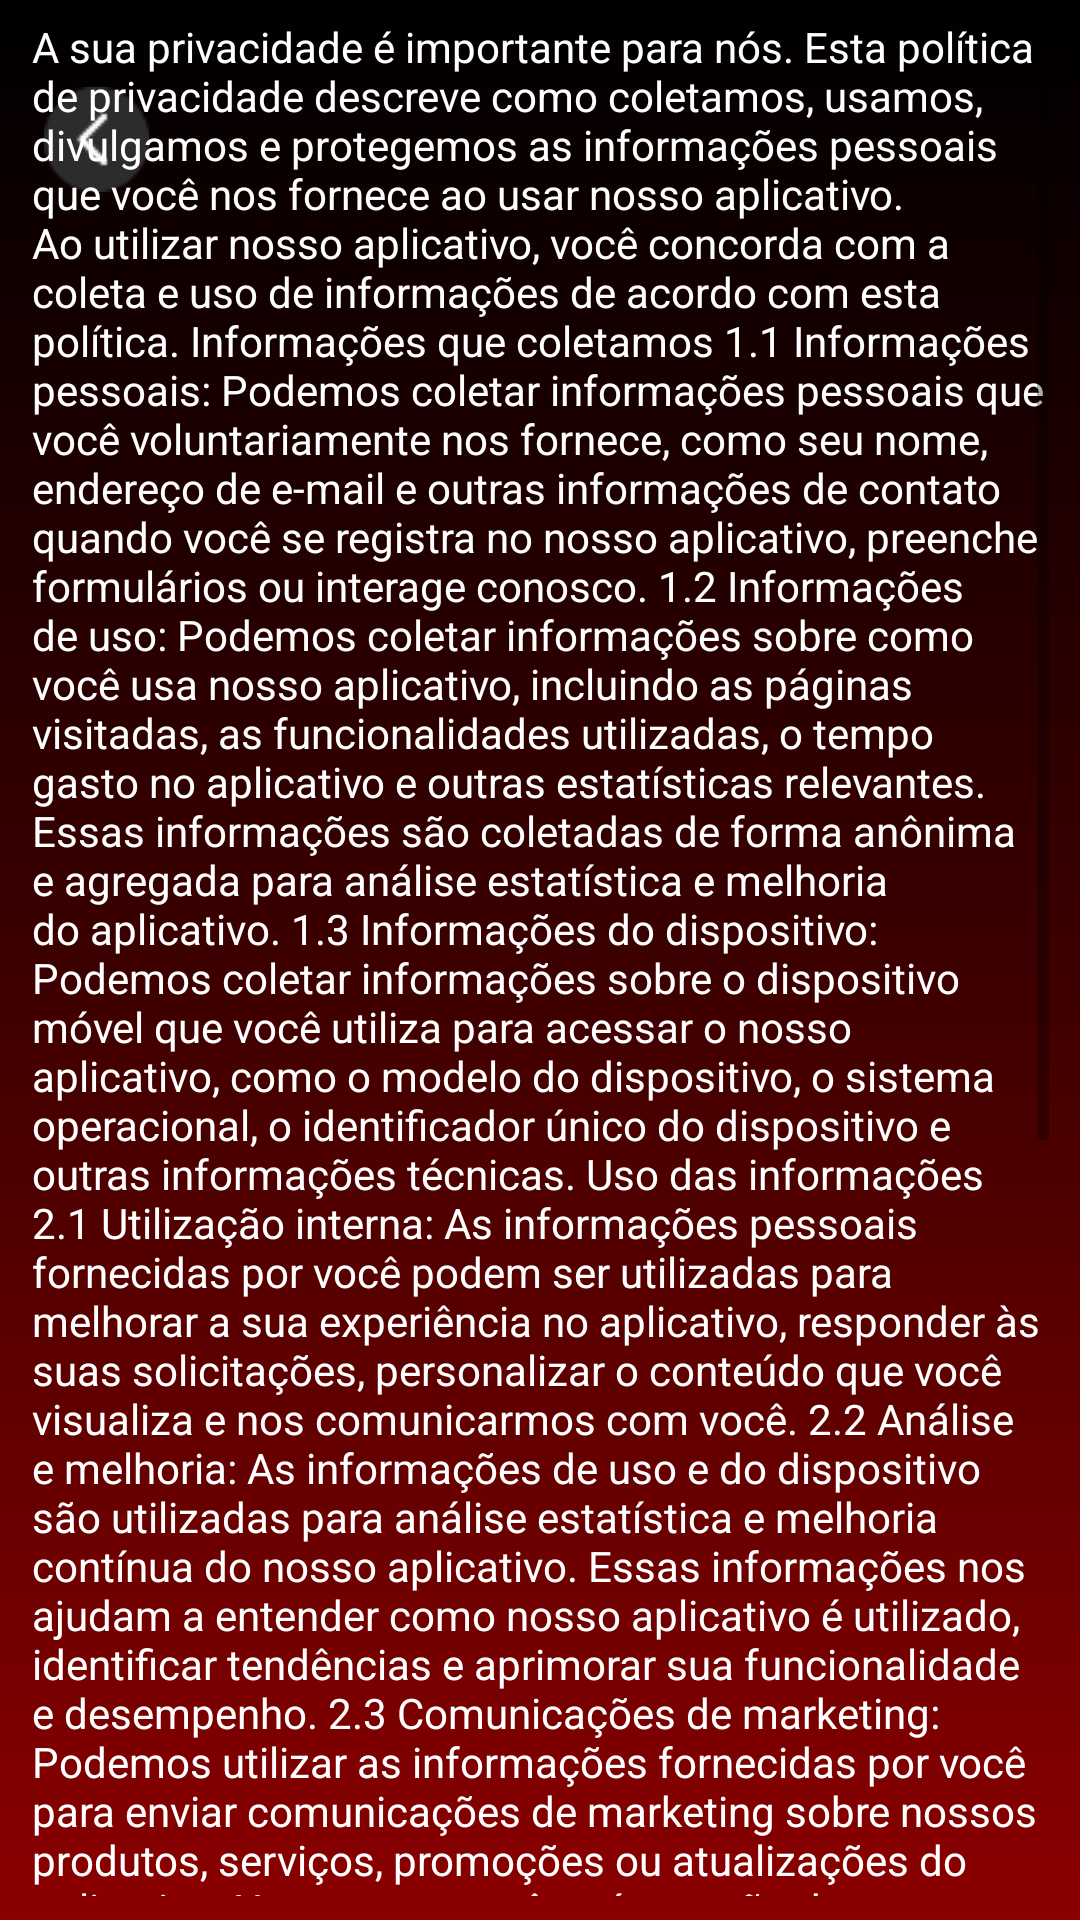

Named icons in this screenshot (1080x1920) and their bounding boxes, (x1, y1, x2, y2):
circle left: (44, 87, 149, 192)
